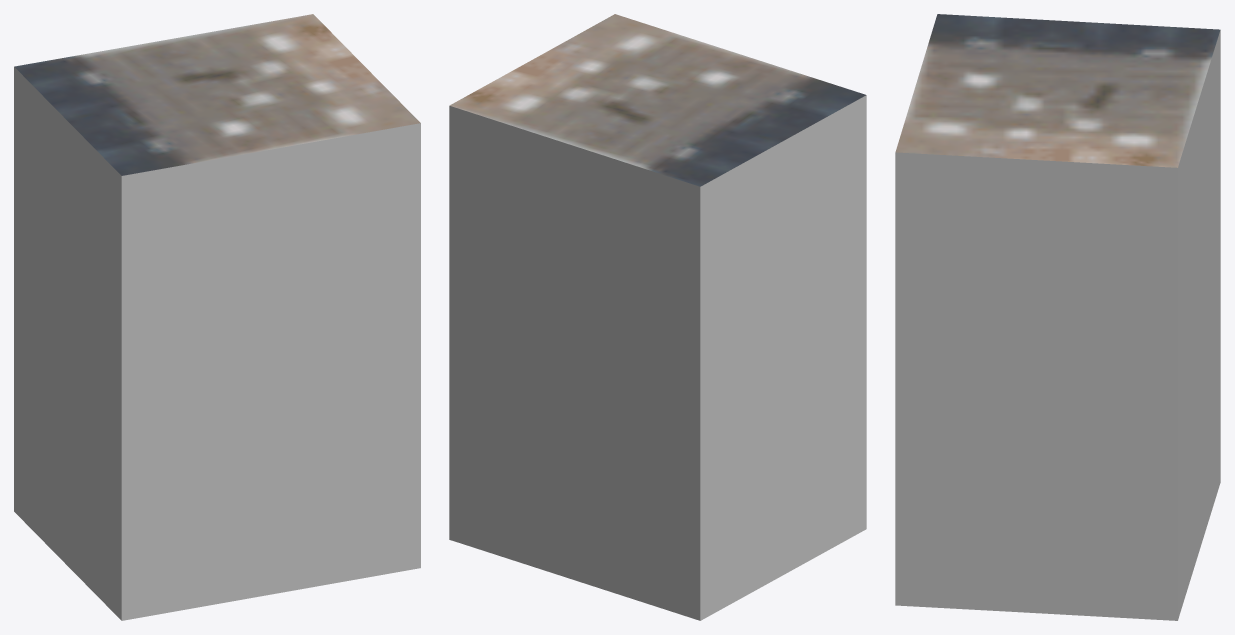
Rendered from DEBW_0010007Tx5w.gltf.
3 renders of one model, left to right at view 1: azimuth 30°, elevation 25°; view 2: azimuth 150°, elevation 25°; view 3: azimuth 270°, elevation 25°, orthographic. The views are drawn at different scales.
Visible parts, largest first — view 1: Z_UP; view 2: Z_UP; view 3: Z_UP.
Part boxes in pixels (<box>): Z_UP: <box>14,14,420,620</box>; Z_UP: <box>449,14,866,620</box>; Z_UP: <box>895,14,1220,620</box>.
Bounding box in the file's own units: 12.14 × 16.67 × 10.84.
2 materials, 1 textured.
